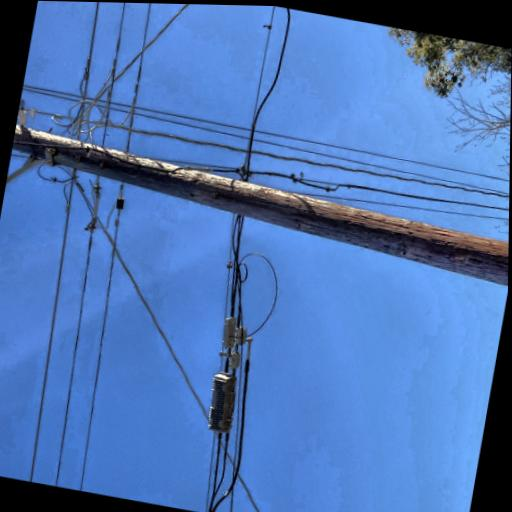pole: (67, 2, 281, 512)
street light: (54, 1, 227, 161)
